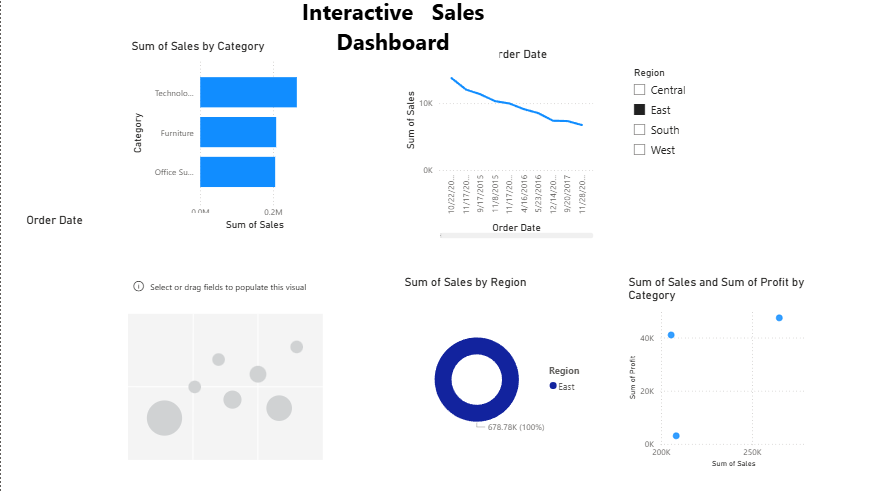

Layout of this report page (visuals, bound fields, positions):
{"tool":"powerbi","page":{"name":"Page 1","canvas":[1280,720],"ordinal":0},"visuals":[{"type":"clusteredBarChart","fields":{"Category":["Sample - Superstore.Category"],"Y":["Sum(Sample - Superstore.Sales)"]},"box":[183.1,67.2,280.5,280.5],"z":0},{"type":"lineChart","fields":{"Category":["Sample - Superstore.Order Date"]},"box":[32,318,281,281],"z":1000},{"type":"lineChart","fields":{"Category":["Sample - Superstore.Order Date"],"Y":["Sum(Sample - Superstore.Sales)"]},"box":[576.2,79,282.2,280.5],"z":2000},{"type":"donutChart","fields":{"Category":["Sample - Superstore.Region"],"Y":["Sum(Sample - Superstore.Sales)"]},"box":[576.2,408.2,282.2,282.2],"z":3000},{"type":"scatterChart","box":[183.1,408.2,280.5,280.5],"z":4000},{"type":"scatterChart","fields":{"X":["Sum(Sample - Superstore.Sales)"],"Y":["Sum(Sample - Superstore.Profit)"],"Category":["Sample - Superstore.Category"]},"box":[898.7,408.2,280.5,282.2],"z":5000},{"type":"slicer","fields":{"Values":["Sample - Superstore.Region"]},"box":[898.7,102.5,280.5,280.5],"z":5001},{"type":"textbox","box":[411.5,0,305.7,102.5],"z":5002}]}

Visuals, with their boxes in screenshot pixels (x1, y1, x2, y2), scaled from the page's 1280x720 canvas onto the 874x491 screenshot:
clusteredBarChart - Sample - Superstore.Category x Sum(Sample - Superstore.Sales): crop(125, 46, 317, 237)
lineChart - Sample - Superstore.Order Date: crop(22, 217, 214, 408)
lineChart - Sample - Superstore.Order Date x Sum(Sample - Superstore.Sales): crop(393, 54, 586, 245)
donutChart - Sample - Superstore.Region x Sum(Sample - Superstore.Sales): crop(393, 278, 586, 471)
scatterChart: crop(125, 278, 317, 470)
scatterChart - Sum(Sample - Superstore.Sales) x Sum(Sample - Superstore.Profit): crop(614, 278, 805, 471)
slicer - Sample - Superstore.Region: crop(614, 70, 805, 261)
textbox: crop(281, 0, 490, 70)
